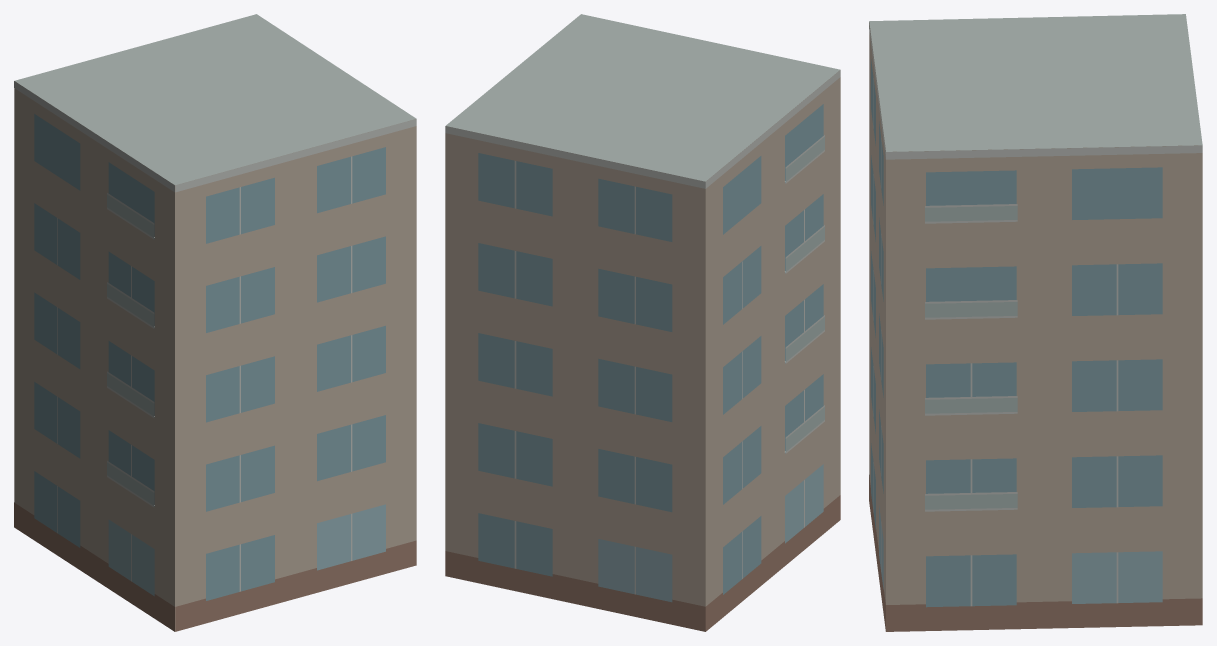
File: survey-upis-32876499.glb
The picture shows the model from 3 angles, left to right: view 1: azimuth 30°, elevation 25°; view 2: azimuth 150°, elevation 25°; view 3: azimuth 270°, elevation 25°; orthographic projection. The views are drawn at different scales.
Visible parts, largest first — view 1: survey-upis-32876499.tmp; view 2: survey-upis-32876499.tmp; view 3: survey-upis-32876499.tmp.
Boxes of the visible parts, left/top/right/bottom form: survey-upis-32876499.tmp: left=14, top=14, right=416, bottom=631; survey-upis-32876499.tmp: left=445, top=14, right=840, bottom=631; survey-upis-32876499.tmp: left=869, top=14, right=1202, bottom=631.
Bounding box in the file's own units: 9.32 × 15.1 × 9.52.
